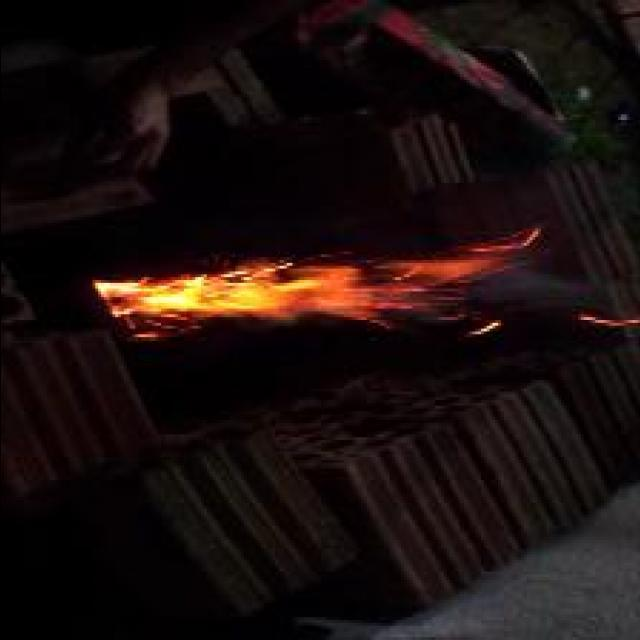Fire: (92, 228, 540, 340)
